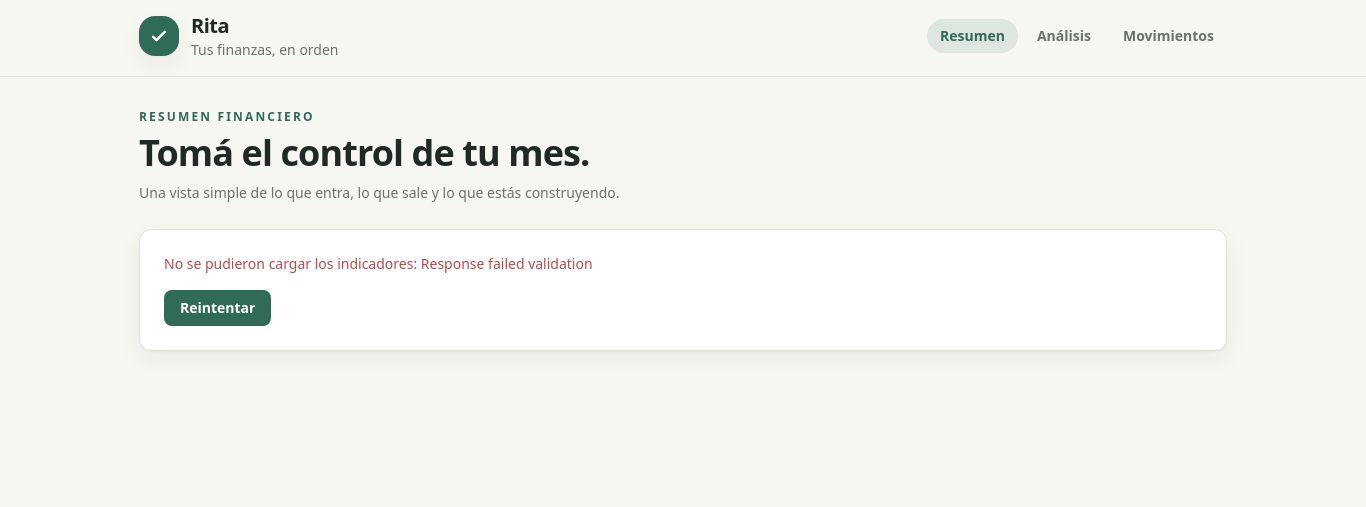
Test: App › surfaces an error state for a malformed summary without rendering partial data
The image size is (1366, 507).
Expected: the message shows "No se pudieron cargar los indicadores", top-left (164, 254), bottom-right (421, 273)
# The independent movement list section is still reachable via navigation.
What coordinates should you click on to do the following:
click the button "Movimientos"
I would click on:
 (1168, 36)
Its box is top-left (1110, 19), bottom-right (1227, 53).
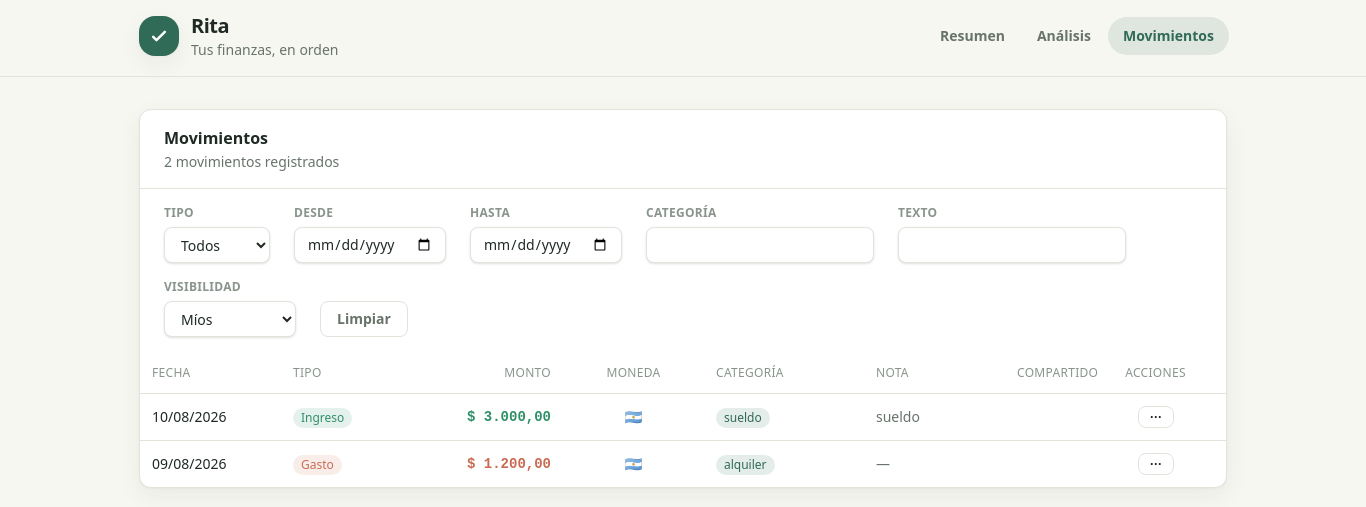
Now the table is shown, box top-left (140, 353), bottom-right (1226, 487)
